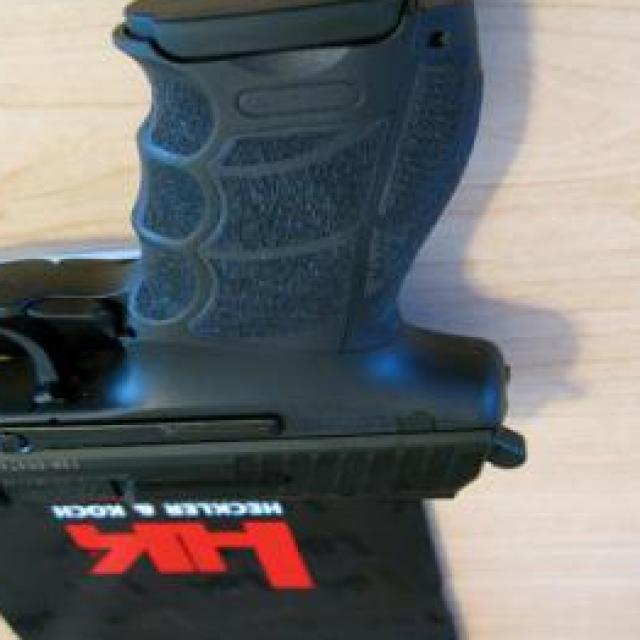pistol: (0, 0, 528, 511)
